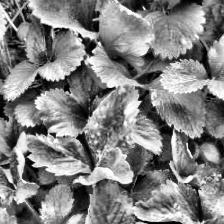Powdery Mildew Leaf: (84, 82, 143, 170), (148, 76, 207, 140), (72, 146, 134, 186), (8, 145, 41, 207), (168, 127, 202, 186)
